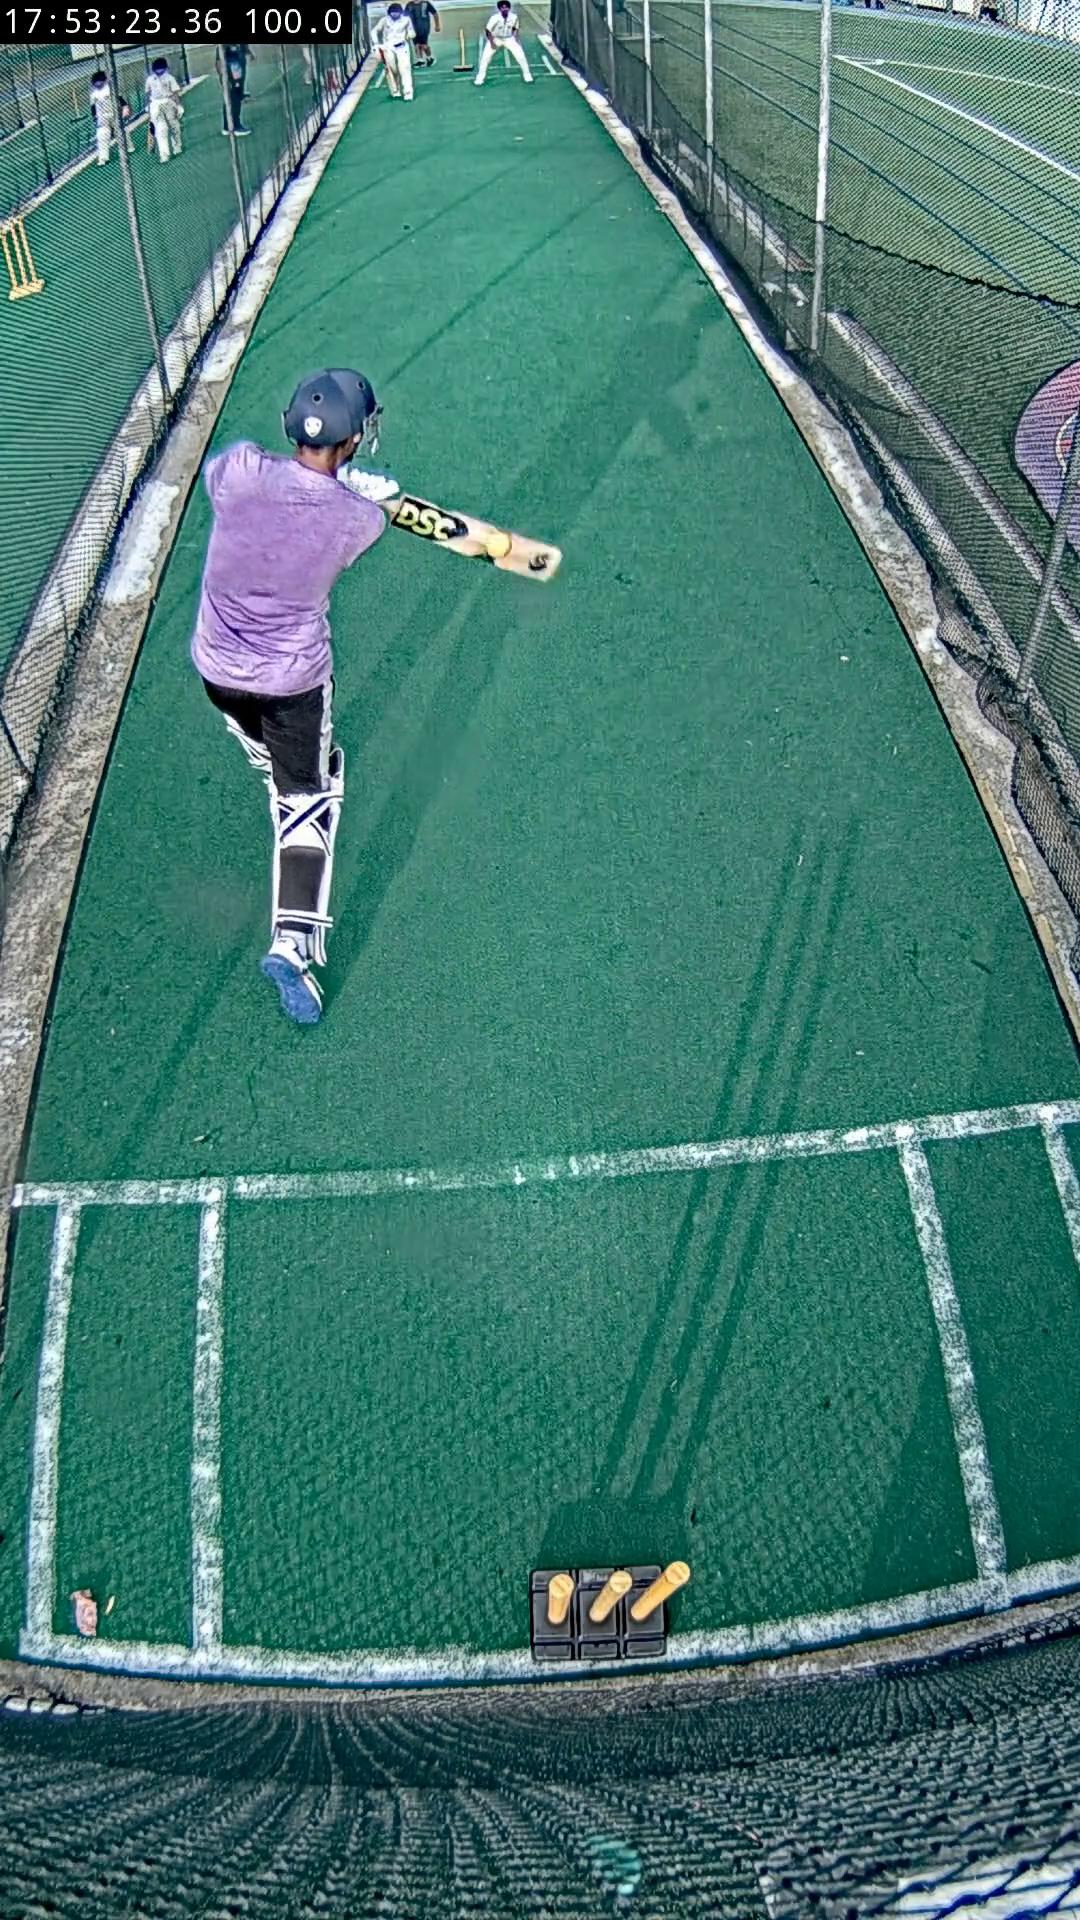ball: (484, 529, 510, 559)
bat: (338, 465, 563, 579)
helmet: (281, 368, 382, 454)
stumps: (529, 1560, 690, 1665)
